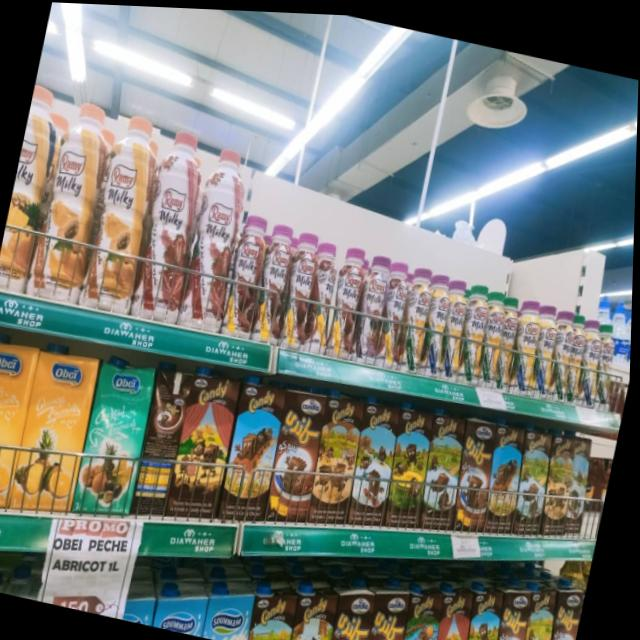candia_carton: (127, 358, 201, 520), (167, 369, 244, 524), (218, 373, 292, 524), (261, 378, 333, 524), (343, 392, 409, 528), (310, 385, 375, 522), (378, 397, 444, 526), (415, 403, 477, 530), (447, 409, 508, 530), (479, 411, 536, 533), (537, 423, 596, 534), (509, 419, 561, 533), (284, 570, 345, 640), (243, 570, 302, 640), (361, 572, 421, 640), (487, 571, 546, 640), (329, 572, 388, 640), (425, 572, 484, 640), (457, 572, 514, 640), (394, 574, 452, 640), (515, 577, 569, 640), (540, 575, 589, 640)
obei_carton: (9, 342, 105, 518), (73, 353, 162, 521), (0, 333, 44, 513)
ramy_plastique: (33, 99, 120, 305), (80, 109, 169, 309), (132, 124, 214, 324), (0, 80, 70, 290), (178, 142, 255, 328), (218, 206, 275, 337), (251, 219, 299, 342), (276, 227, 325, 345), (324, 241, 371, 354), (298, 235, 344, 349), (351, 246, 396, 360), (371, 254, 415, 363), (395, 264, 440, 368), (415, 265, 458, 373), (504, 290, 549, 392), (453, 275, 495, 380), (434, 270, 474, 375), (489, 286, 529, 385), (472, 284, 511, 385), (525, 298, 564, 395), (571, 307, 607, 404), (558, 304, 595, 396), (542, 302, 579, 393), (591, 311, 625, 397)
